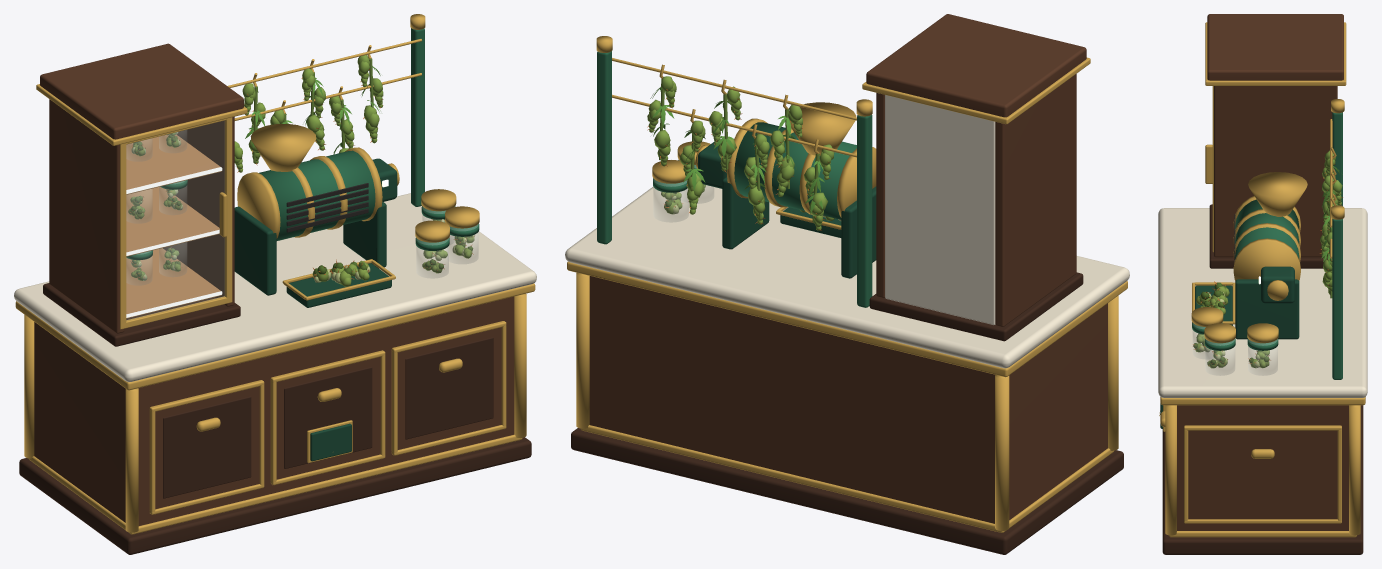
Rendered from harvest_bench_tier5.glb.
3 views of the same model, side by side, from view 1: azimuth 30°, elevation 25°; view 2: azimuth 150°, elevation 25°; view 3: azimuth 270°, elevation 25° (orthographic). The views are drawn at different scales.
Parts seen in each view (by area): view 1: Body, Top, CureGlass, CureSide-1, CureTop, Plinth, DrawerInset0, DrawerInset2, DrawerInset1, CureSide1, TrimDrum, TopBand (+39 smaller); view 2: Body, Top, CureBack, CureSide-1, CureTop, Plinth, TopBand, BaseBrass, TrimDrum, CureBase, LinePost-0.28, LinePost0.90 (+15 smaller); view 3: Top, CureSide1, EndDrawer, CureTop, Body, Plinth, TrimLeg1, DrumRing0.25, Hopper, LinePost0.90, TrimDrum, TopBand (+24 smaller).
Boxes of the visible parts, box(x1,y1,x2,y2) form: Body: box(34, 296, 514, 525); Top: box(14, 193, 536, 382); CureGlass: box(127, 121, 224, 319); CureSide-1: box(49, 99, 124, 333); CureTop: box(40, 43, 243, 139); Plinth: box(19, 437, 531, 554); DrawerInset0: box(163, 396, 251, 498); DrawerInset2: box(405, 337, 493, 439); DrawerInset1: box(284, 367, 372, 468); CureSide1: box(163, 116, 234, 306); TrimDrum: box(259, 150, 375, 240); TopBand: box(15, 283, 535, 390); Body: box(589, 276, 1107, 523); Top: box(565, 185, 1129, 368); CureBack: box(885, 95, 995, 324); CureSide-1: box(995, 74, 1076, 326); CureTop: box(866, 14, 1086, 117); Plinth: box(571, 428, 1123, 554); TopBand: box(567, 261, 1127, 377); BaseBrass: box(581, 425, 1113, 532); TrimDrum: box(734, 122, 856, 219); CureBase: box(869, 272, 1083, 341); LinePost-0.28: box(857, 115, 872, 307); LinePost0.90: box(597, 51, 611, 244); Top: box(1158, 208, 1367, 397); CureSide1: box(1214, 86, 1337, 257); EndDrawer: box(1188, 430, 1337, 519); CureTop: box(1207, 14, 1343, 80); Body: box(1177, 405, 1348, 530); Plinth: box(1162, 405, 1363, 554); TrimLeg1: box(1235, 279, 1299, 339); DrumRing0.25: box(1233, 238, 1300, 280); Hopper: box(1248, 172, 1307, 216); LinePost0.90: box(1332, 219, 1342, 379); TrimDrum: box(1235, 199, 1299, 259); TopBand: box(1160, 397, 1365, 405).
Size of the model in its own units: 2.02 by 1.91 by 0.98.
